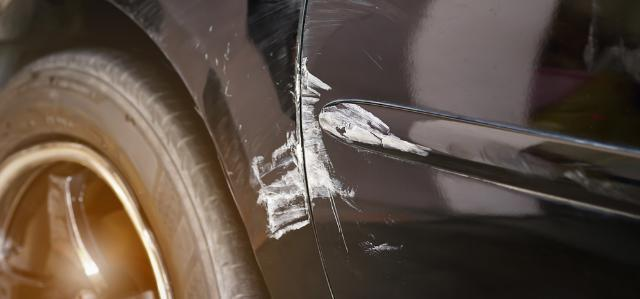scratch: (301, 55, 436, 261), (248, 55, 311, 243)
